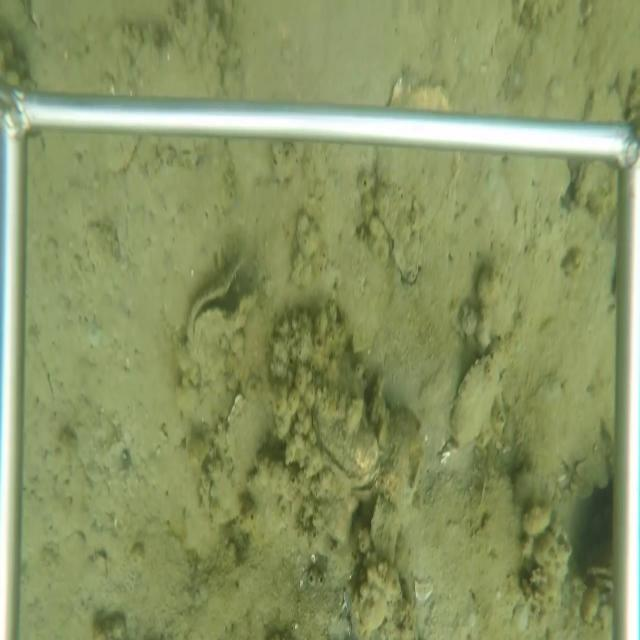Oyster-Closed: (447, 349, 508, 454)
Oyster-Indeterminate: (373, 148, 461, 291), (310, 393, 378, 475)
Oyster-Open: (185, 256, 260, 349)
